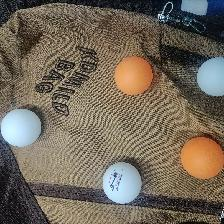WhiteBall: (101, 161, 142, 203), (1, 108, 40, 147), (196, 55, 224, 96)
YellowBall: (181, 137, 223, 179), (114, 56, 152, 94)
